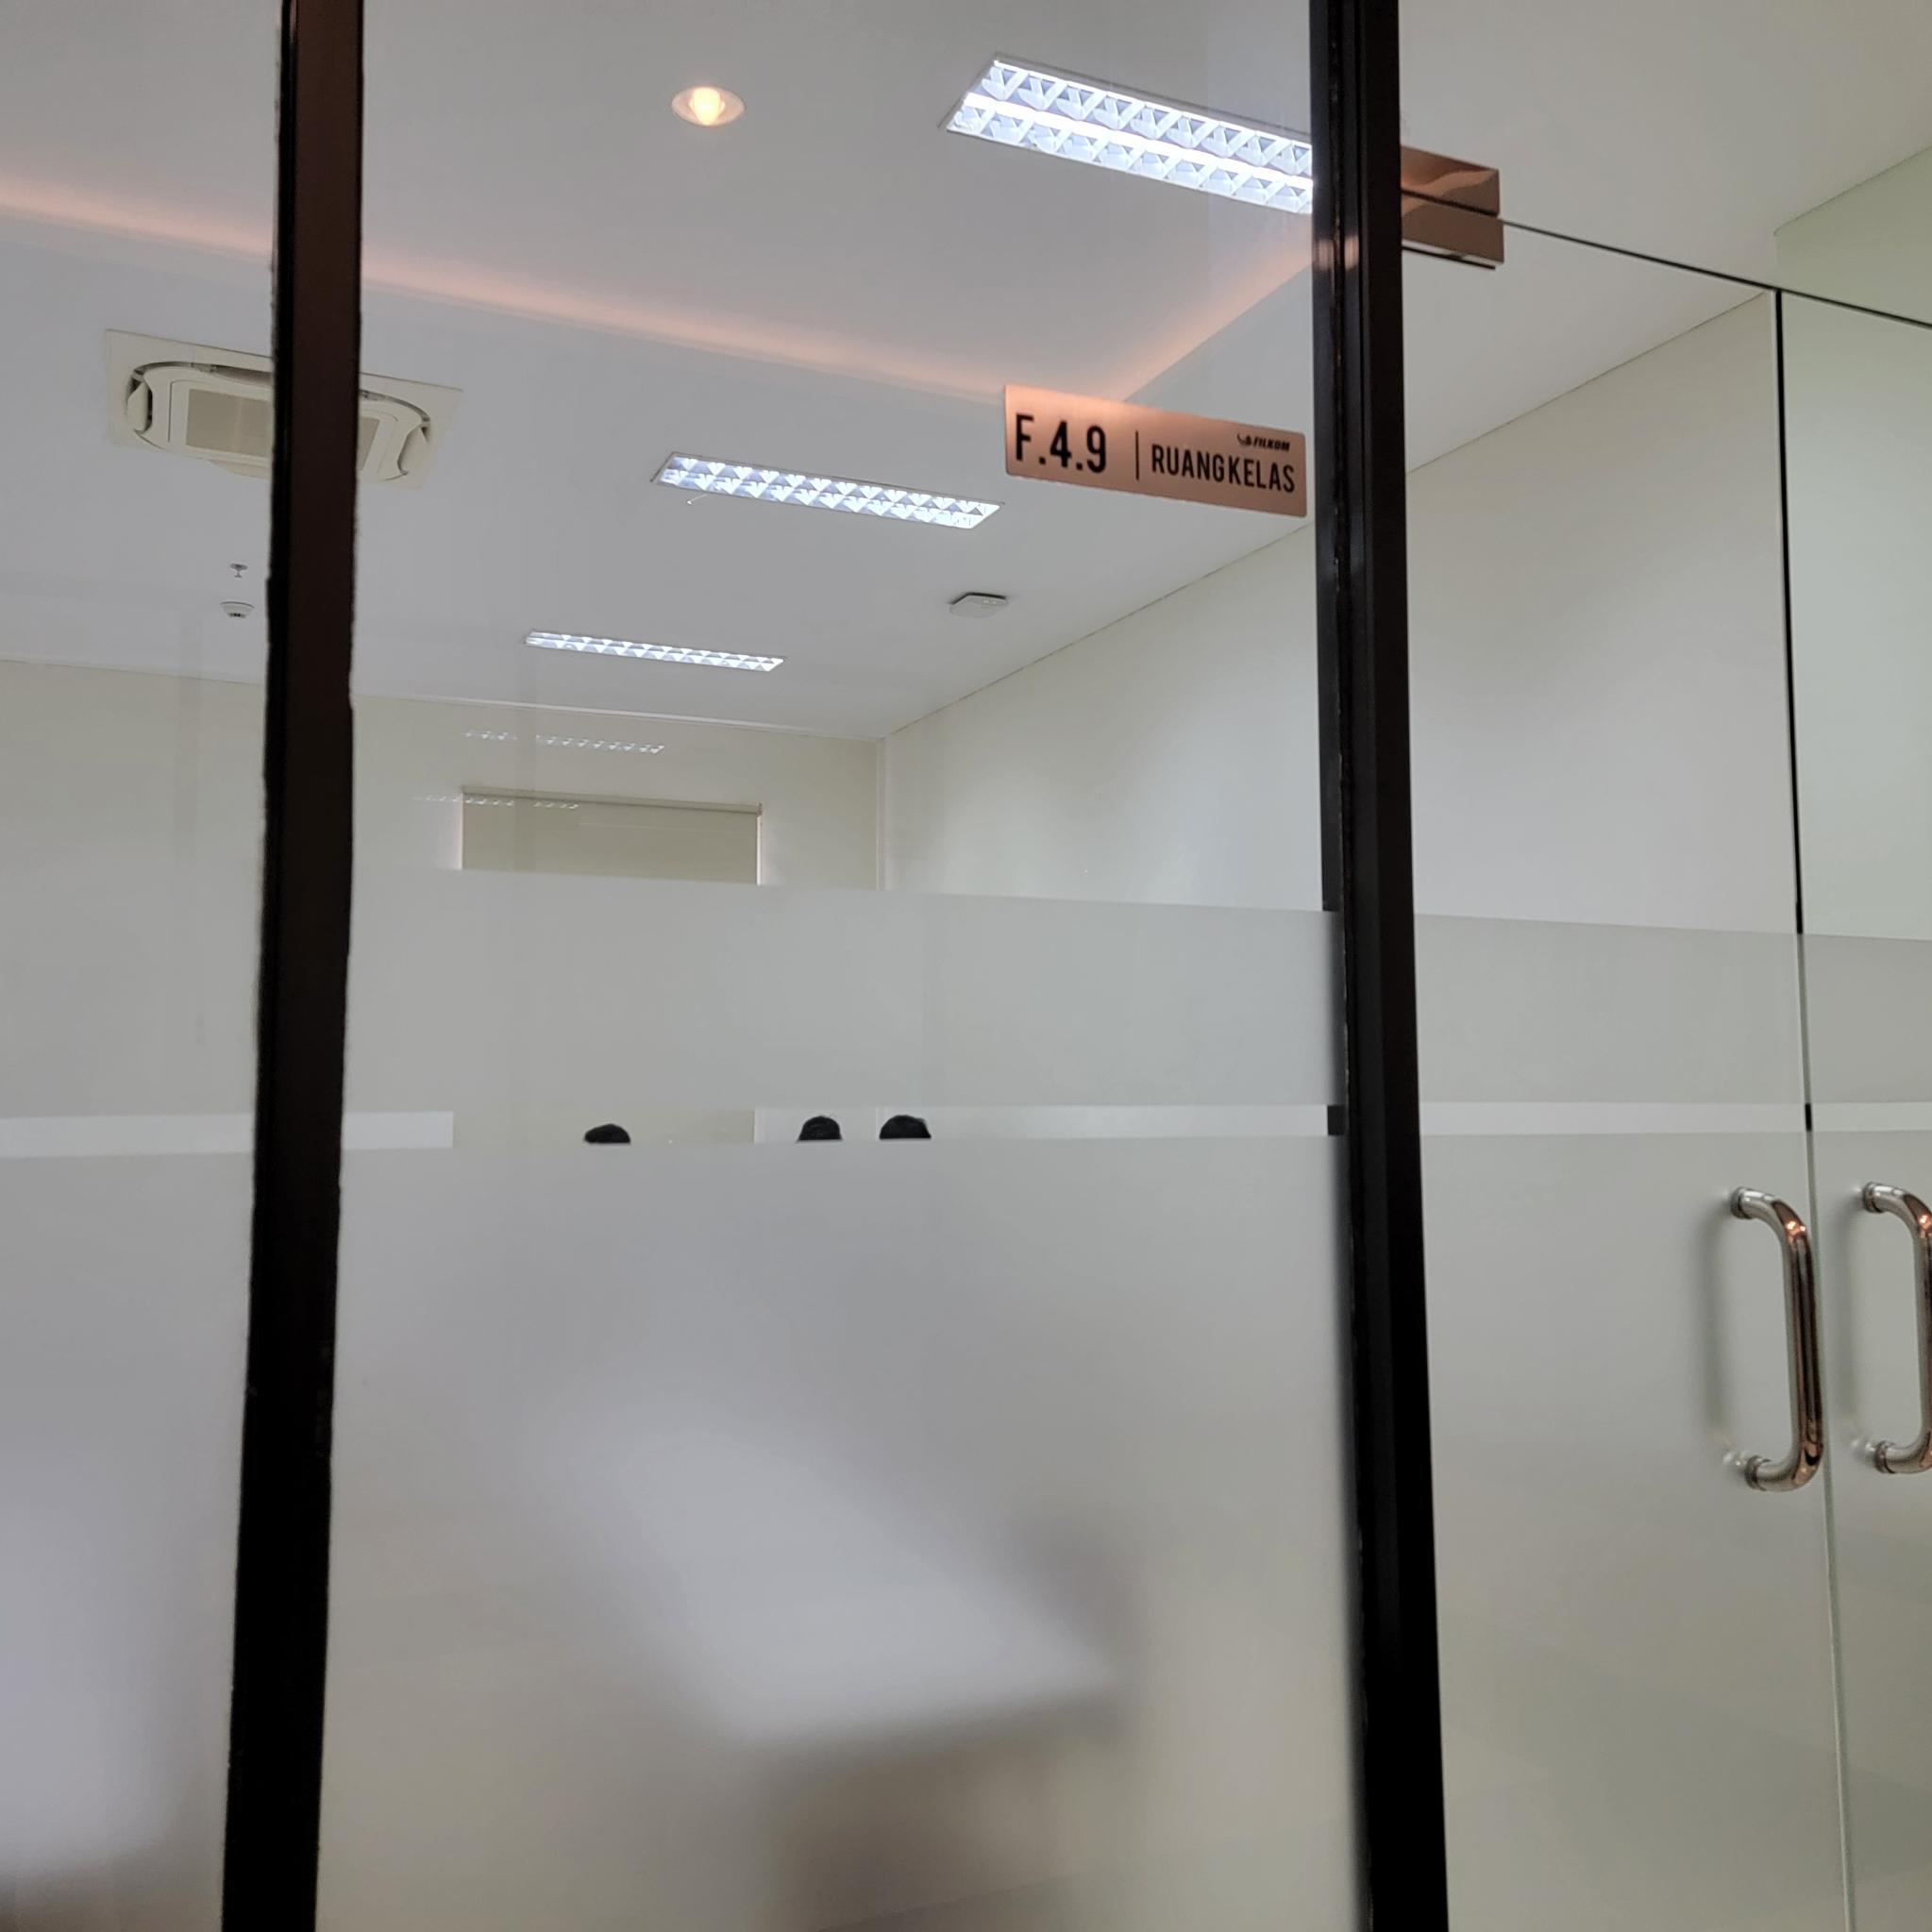plate: (1003, 382, 1307, 520)
